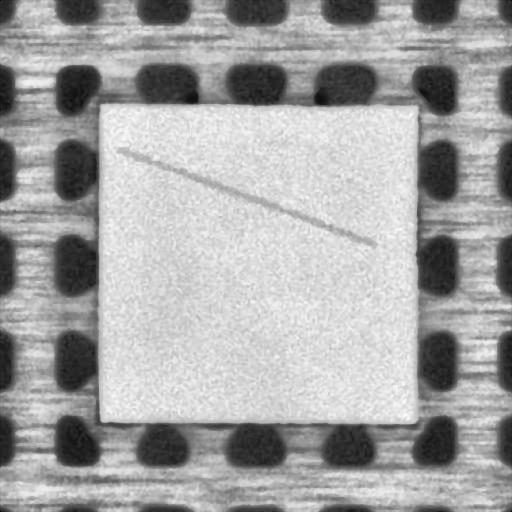DIE_CRACK: (119, 149, 373, 244)
